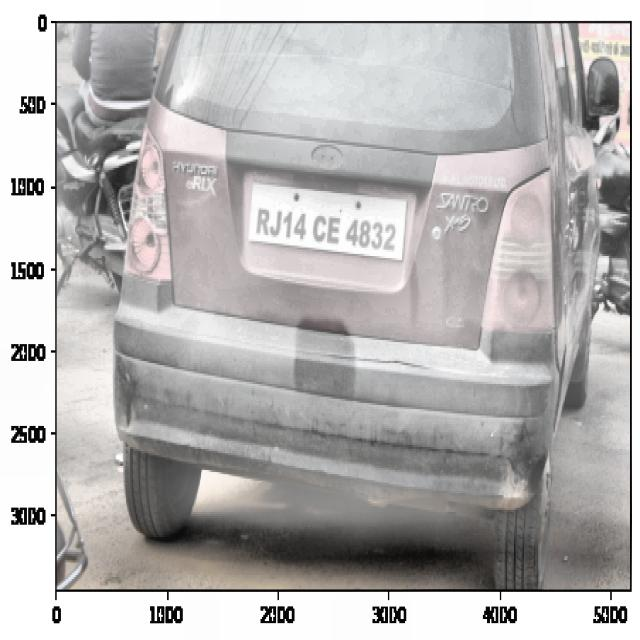license_plate: (252, 198, 400, 260)
